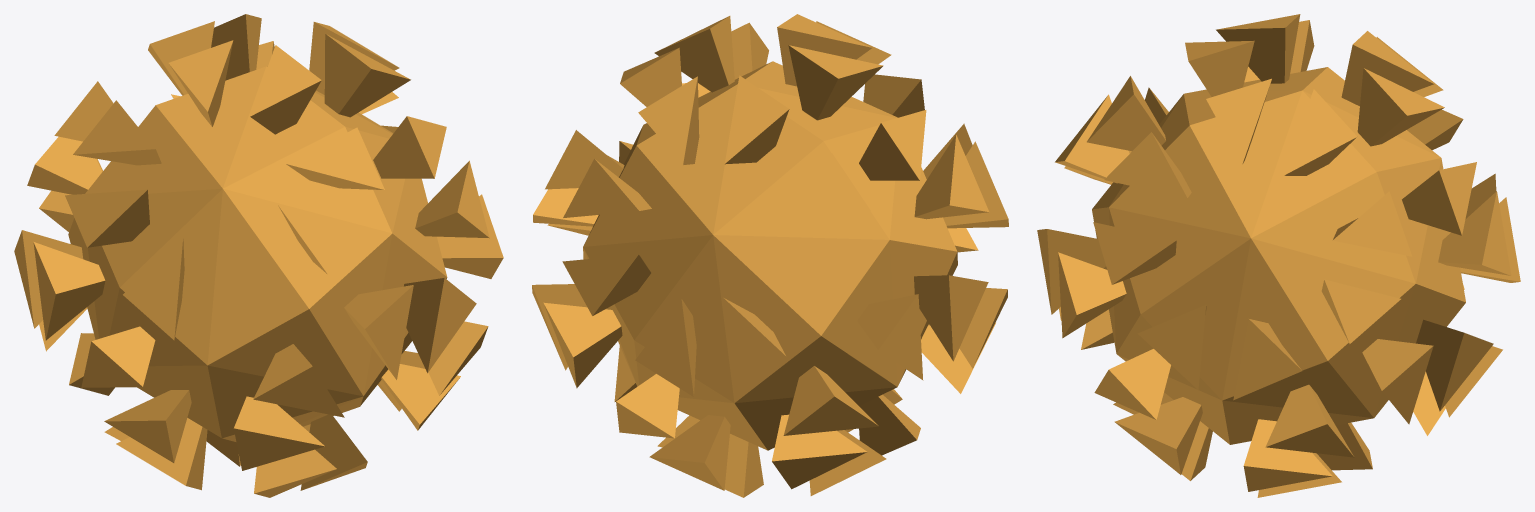
The model's file is covid.fbx.
3 views of the same model, side by side, from view 1: azimuth 30°, elevation 25°; view 2: azimuth 150°, elevation 25°; view 3: azimuth 270°, elevation 25° (orthographic).
Parts seen in each view (by area): view 1: covid; view 2: covid; view 3: covid.
Boxes of the visible parts, left/top/right/bottom form: covid: left=14, top=14, right=503, bottom=497; covid: left=532, top=14, right=1008, bottom=497; covid: left=1037, top=14, right=1520, bottom=497.
Bounding box in the file's own units: 0.1069 × 0.106 × 0.1066.
